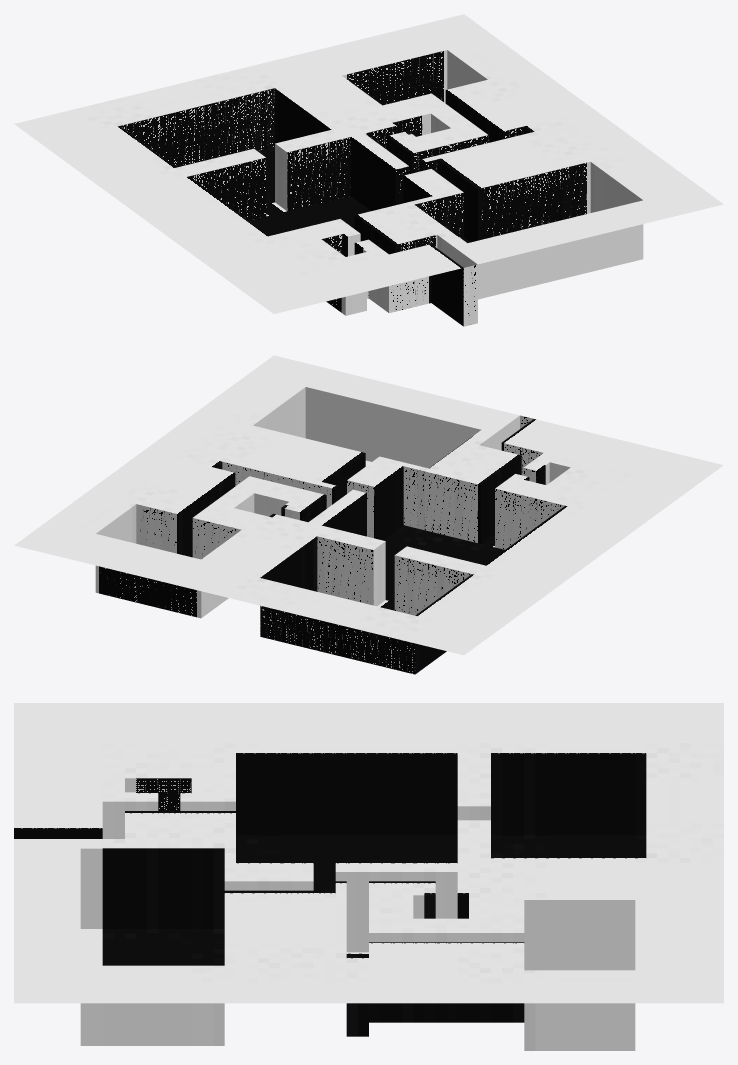
Rendered from level map.fbx.
3 views of the same model, one above another, from view 1: azimuth 30°, elevation 25°; view 2: azimuth 150°, elevation 25°; view 3: azimuth 270°, elevation 25° (orthographic). The views are drawn at different scales.
Parts seen in each view (by area): view 1: pPlane1; view 2: pPlane1; view 3: pPlane1.
Boxes of the visible parts, x1=… form: pPlane1: x1=14, y1=14, x2=723, y2=326; pPlane1: x1=14, y1=355, x2=723, y2=674; pPlane1: x1=14, y1=703, x2=723, y2=1050.
Bounding box in the file's own units: 0.64 × 0.08 × 0.64.
1 material, 1 textured.
